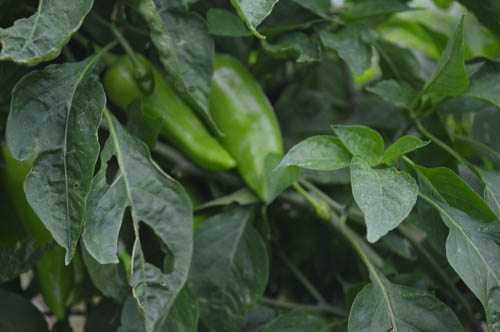ChiliPepper: (107, 57, 234, 170), (205, 54, 282, 201), (4, 159, 66, 318)
